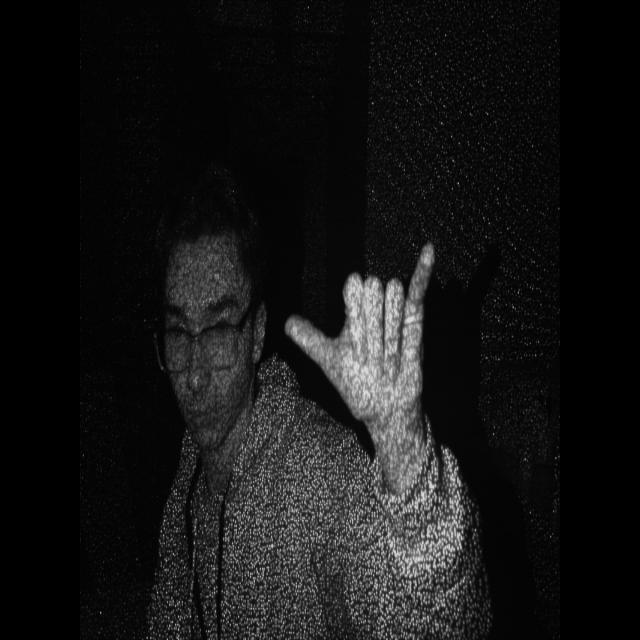Y: (282, 232, 450, 432)
